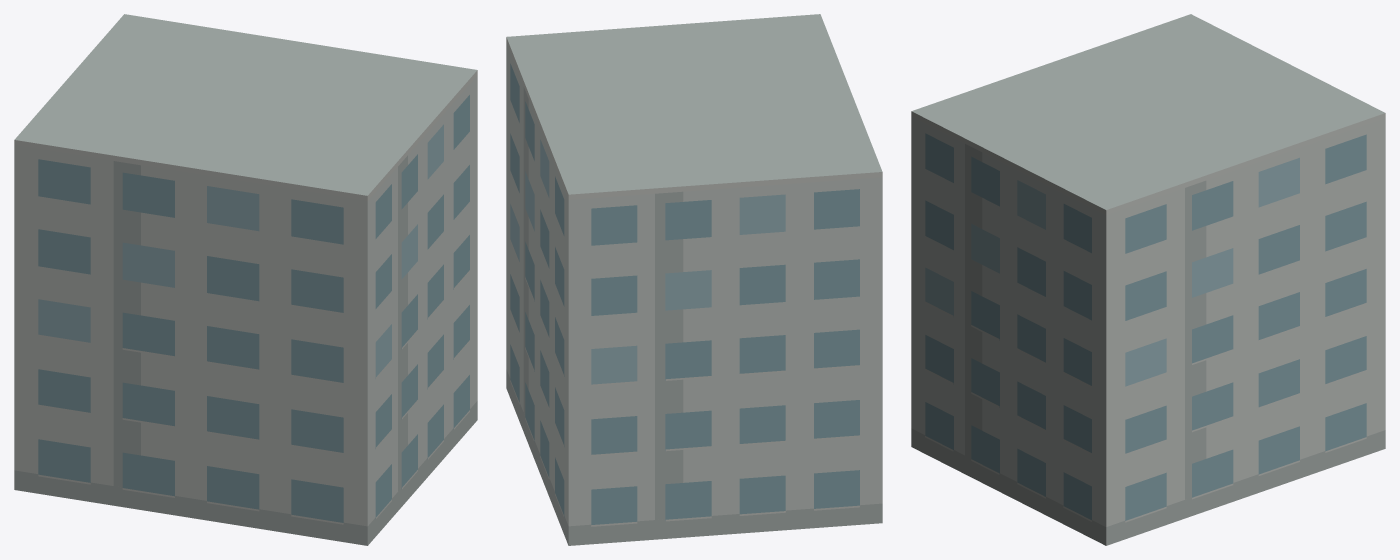
File: survey-upis-32836528.glb
3 views of the same model, side by side, from view 1: azimuth 30°, elevation 25°; view 2: azimuth 150°, elevation 25°; view 3: azimuth 270°, elevation 25° (orthographic). The views are drawn at different scales.
Parts seen in each view (by area): view 1: survey-upis-32836528.tmp; view 2: survey-upis-32836528.tmp; view 3: survey-upis-32836528.tmp.
Boxes of the visible parts, x1,y1,x2,y2 form: survey-upis-32836528.tmp: [14, 14, 477, 545]; survey-upis-32836528.tmp: [506, 14, 882, 545]; survey-upis-32836528.tmp: [911, 14, 1385, 545].
Bounding box in the file's own units: 19.93 × 15.9 × 20.36.
